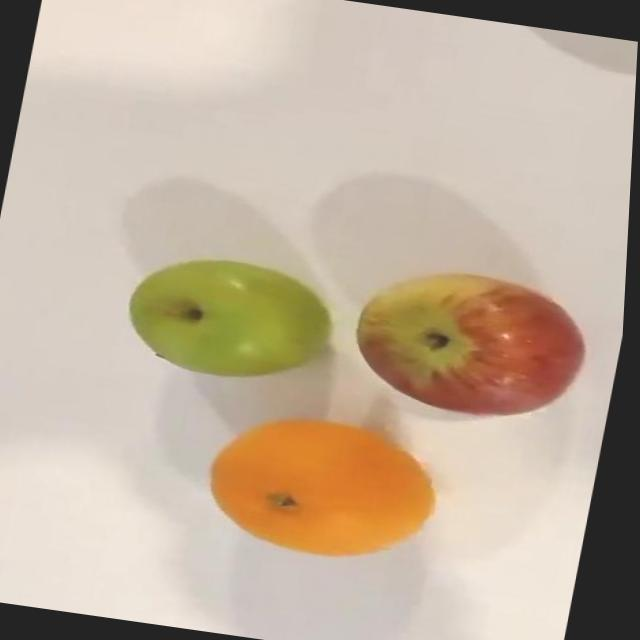Apple: (348, 258, 602, 428), (122, 246, 347, 391)
Orange: (202, 404, 456, 570)
